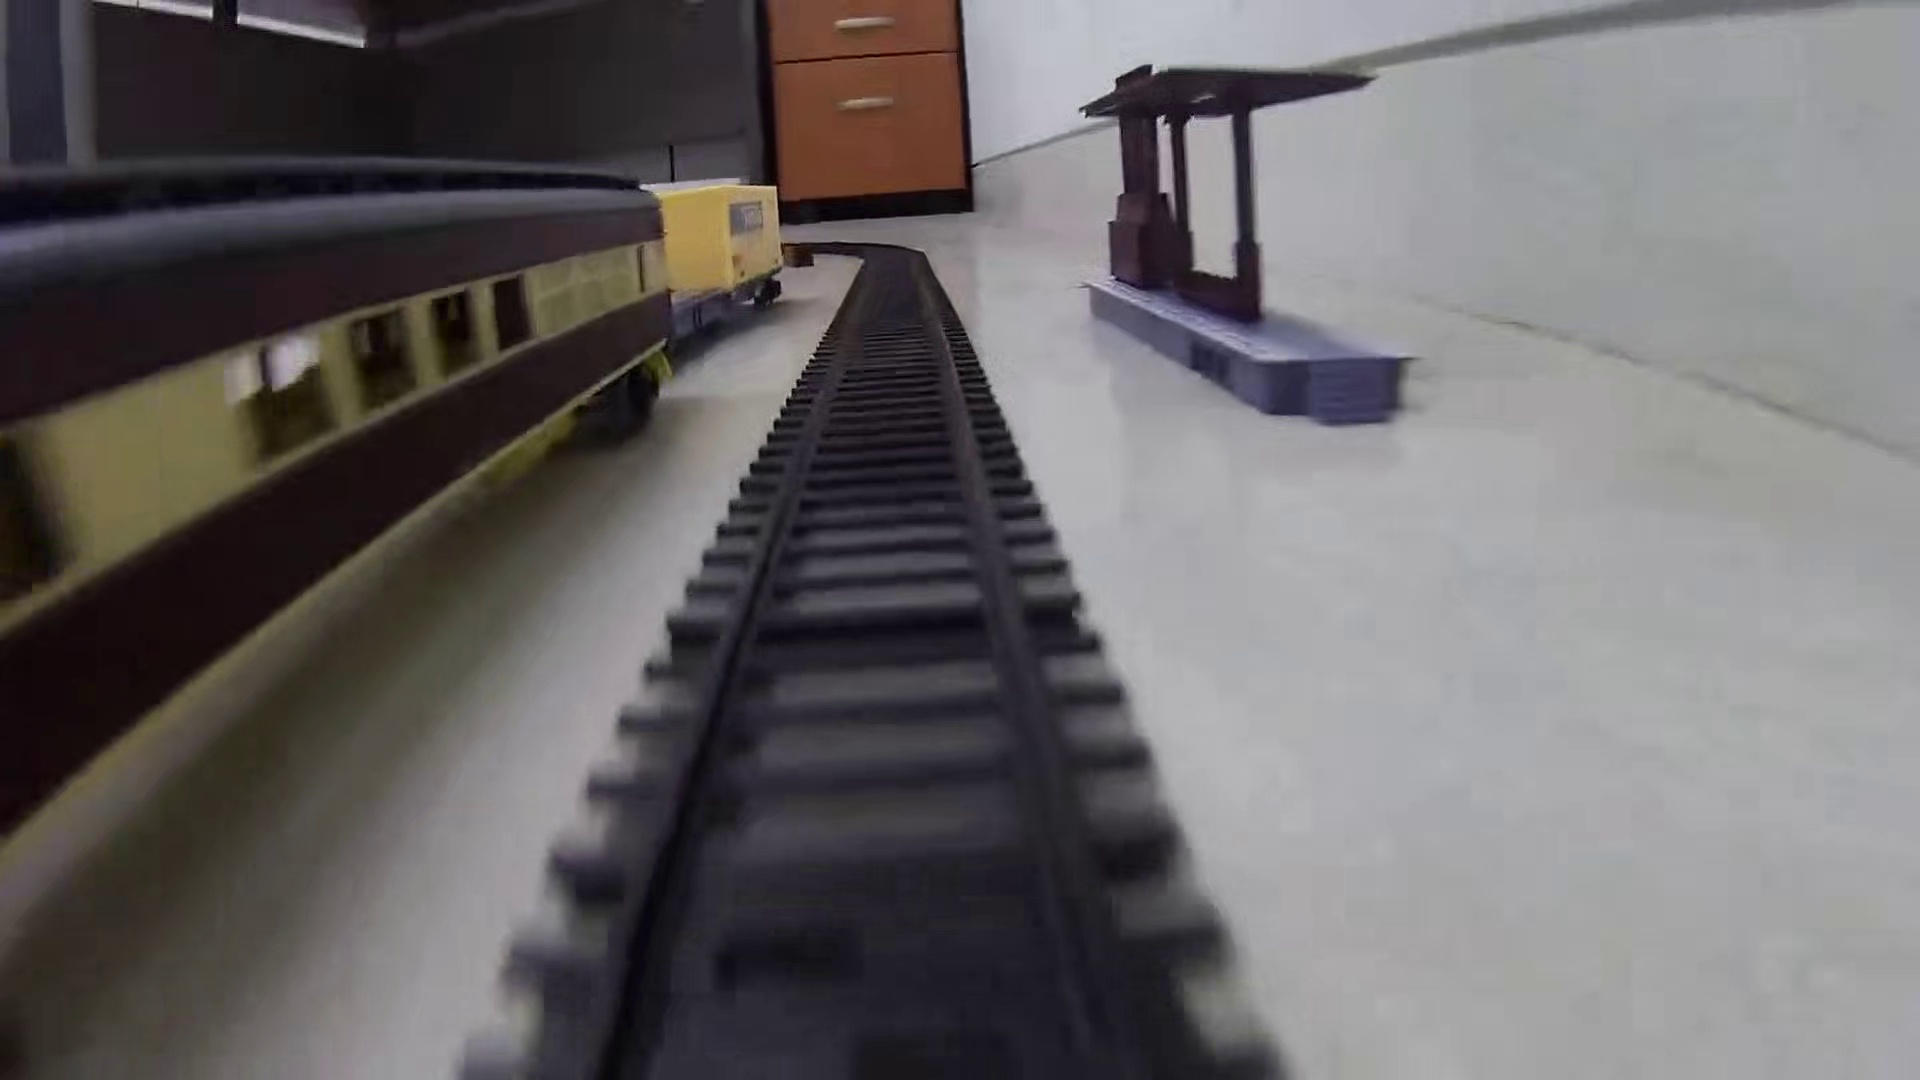box: (782, 241, 816, 272)
